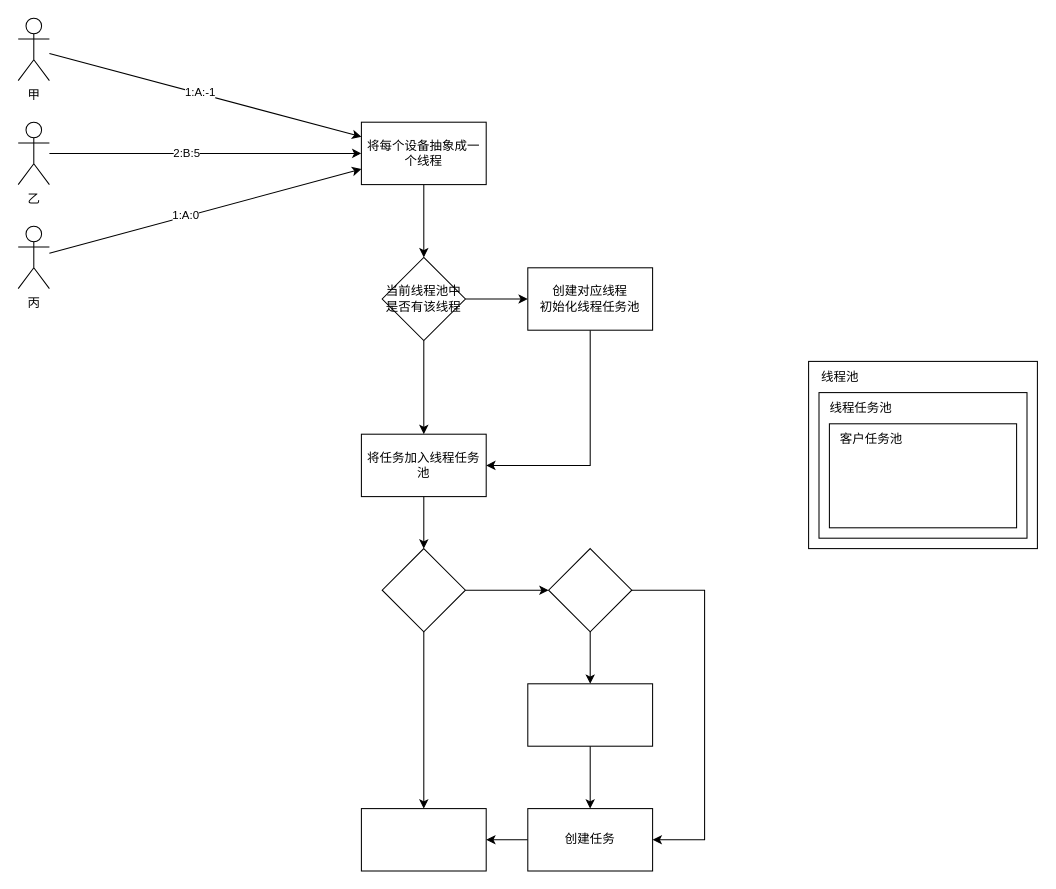
This 1056x889 diagram has some shape labels left out. The centre of each missing label's shape, as x and y in pixels:
"丢弃队首任务" goes at pixel 590 714.
"任务队列>10" goes at pixel 590 590.
"客户任务是否存在" goes at pixel 423 590.
"运行次数合并" goes at pixel 423 839.
